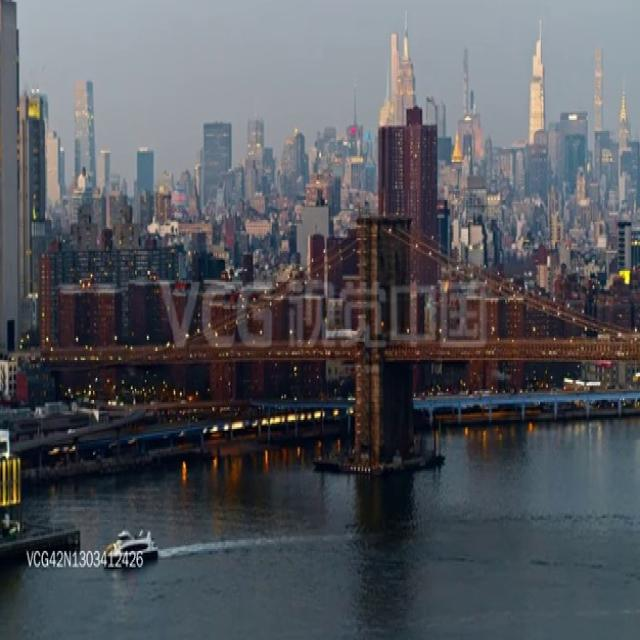houseboat: (104, 522, 158, 561)
